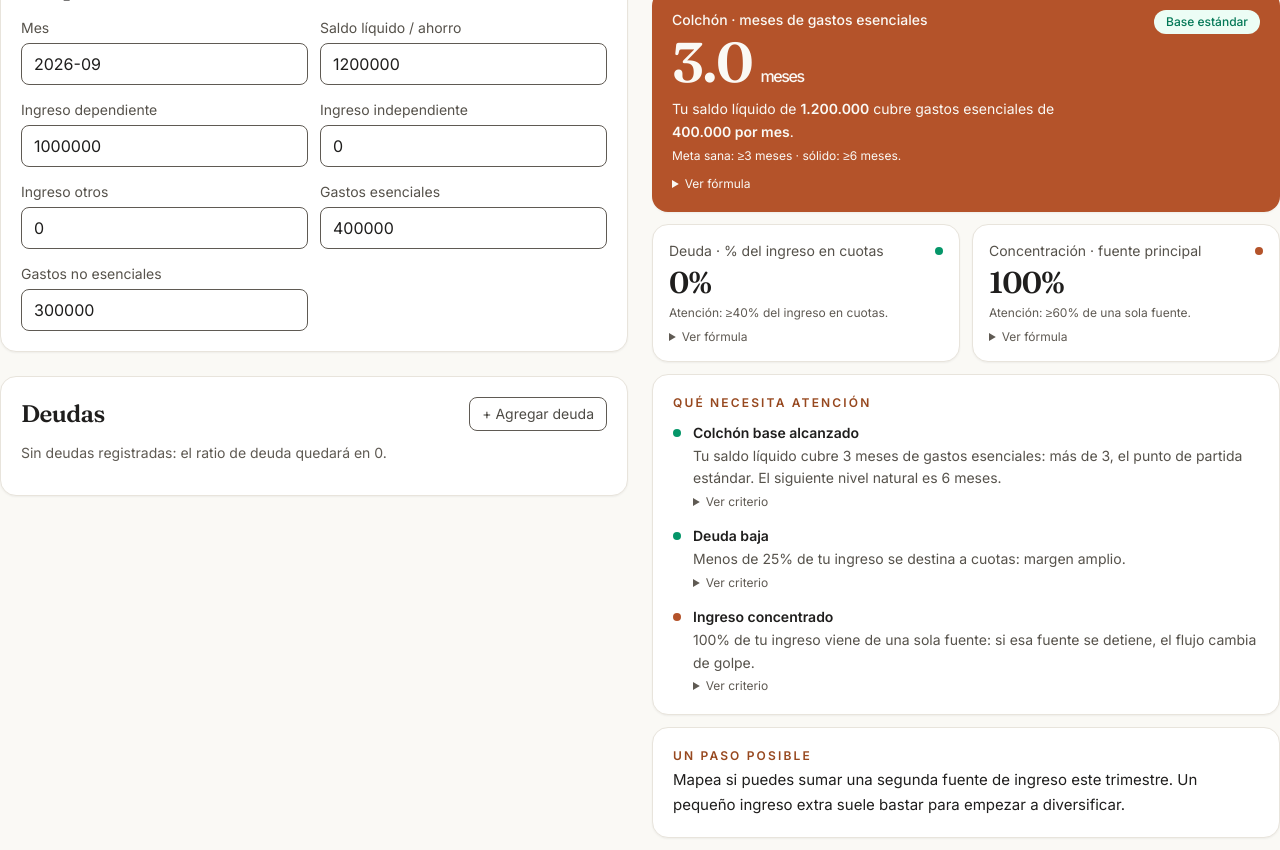
FotoFinanciera (paso finanzas) › guarda el snapshot y las deudas con nombre al pulsar Guardar mes
Step 1. Click the button "+ Agregar deuda" → [538, 414], box x1=469 y1=397 x2=607 y2=431
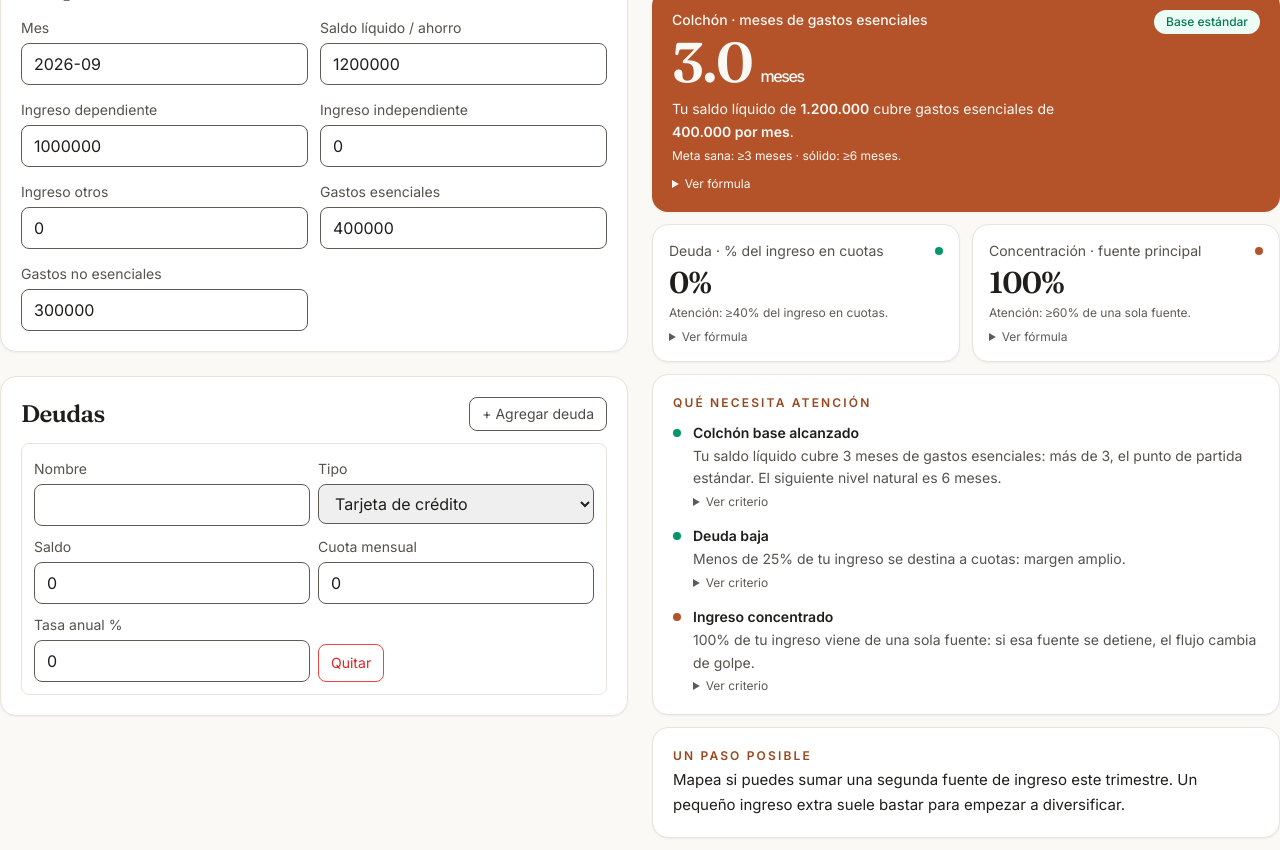
Step 2. Type "Tarjeta" into the field labelled "Nombre" → [172, 505], box x1=34 y1=484 x2=310 y2=526
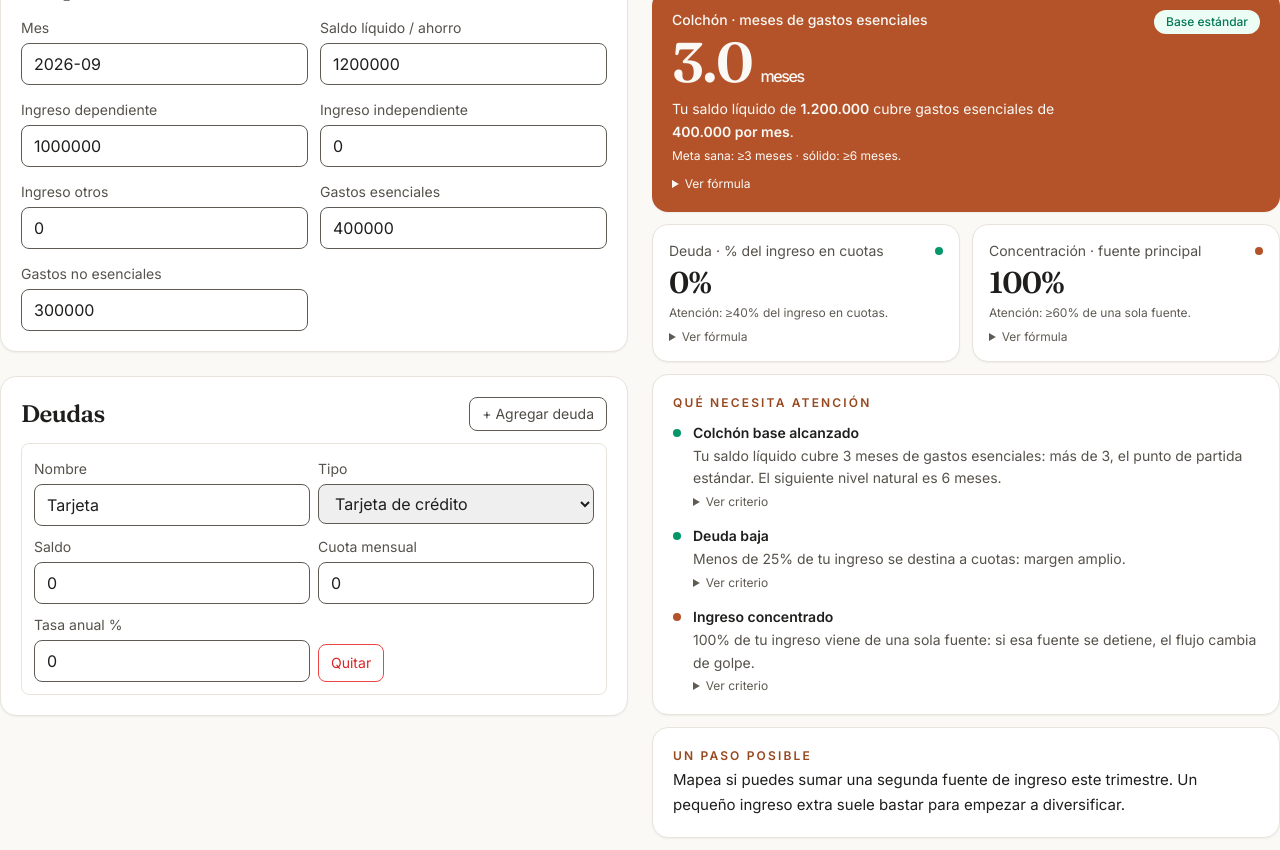
Step 3. Replace the text in the field labelled "Cuota mensual" with "400000" → [456, 583], box x1=318 y1=562 x2=594 y2=604
(page scrolled)
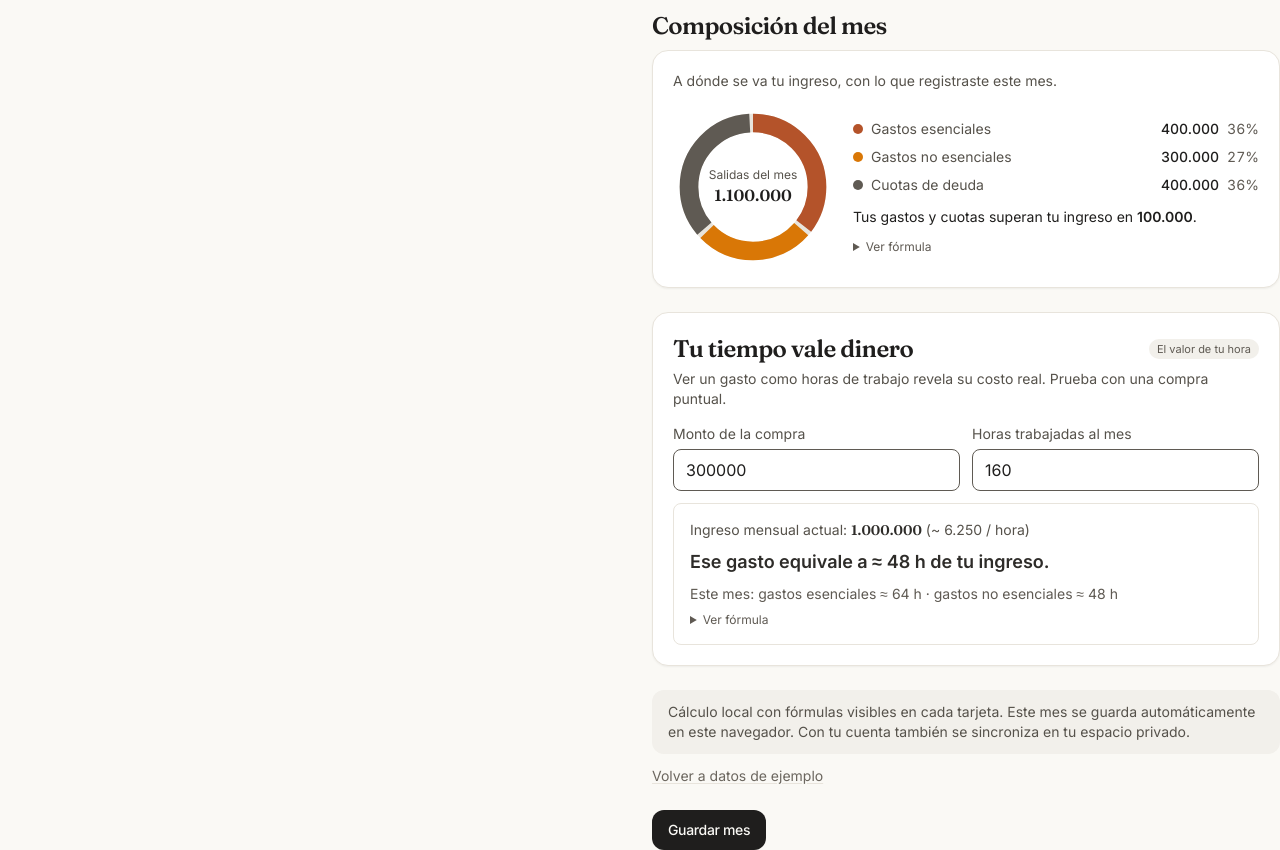
Step 4. Click the button "Guardar mes" → [709, 830], box x1=652 y1=810 x2=766 y2=849
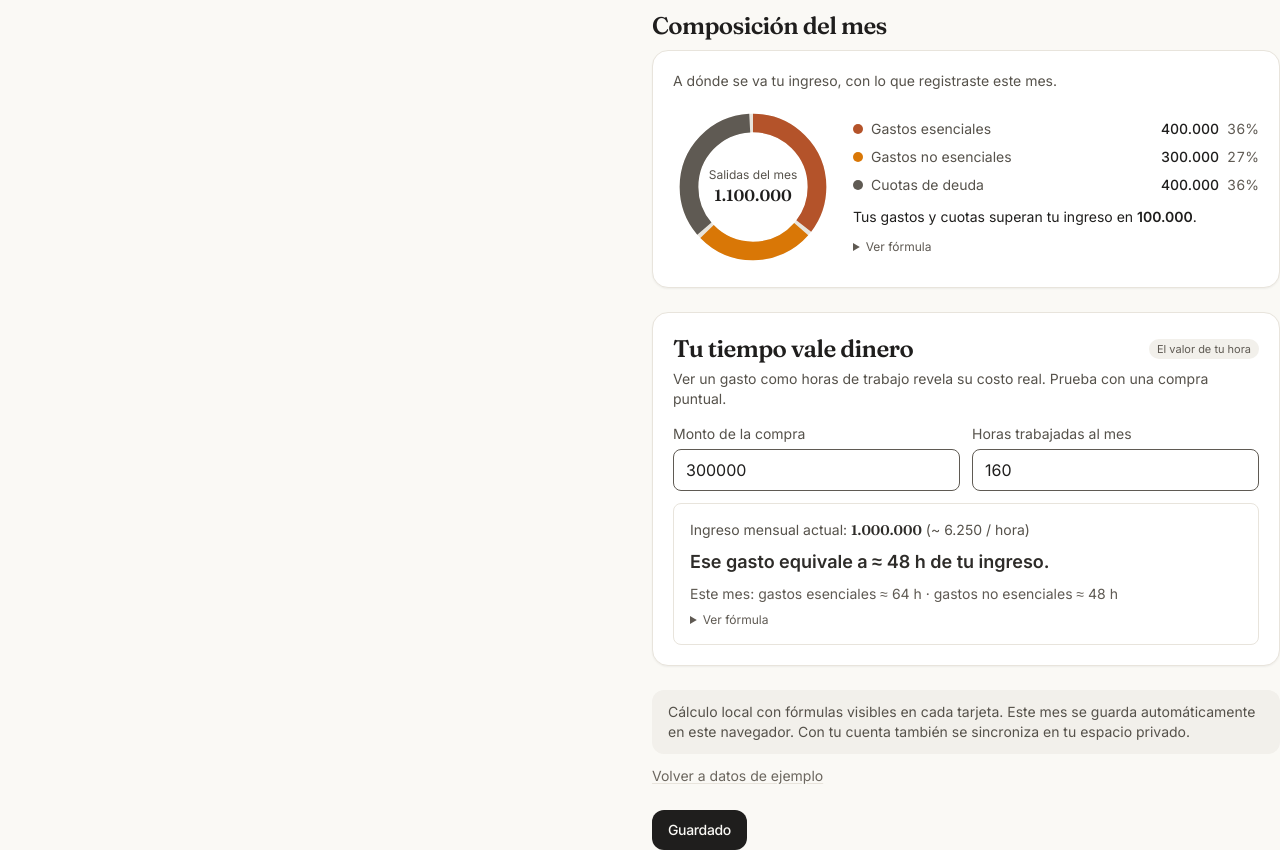
Expected: the button "Guardado" is shown, x1=652 y1=810 x2=747 y2=849
